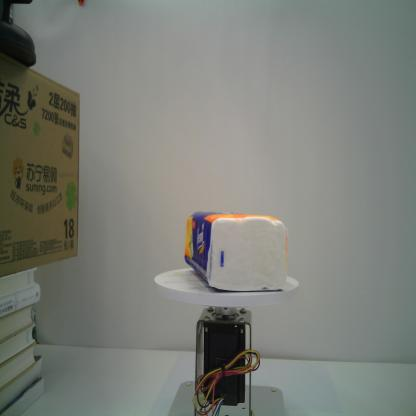Tissue: (182, 208, 291, 294)
